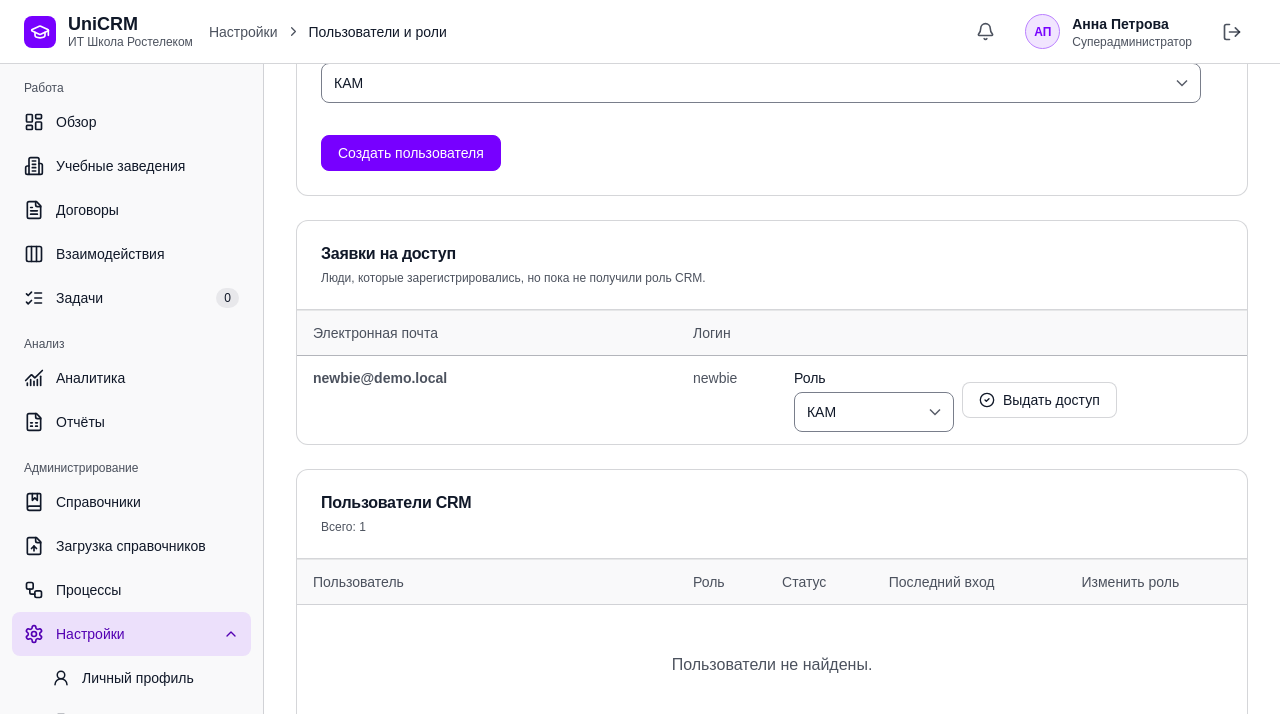
Test: settings users page › shows pending registrations and grants manager access
This screenshot has width=1280, height=714.
(page scrolled)
Expected: the text "newbie@demo.local" is shown, [313, 370, 447, 386]
Step 1. Click the button "Выдать доступ" → (1039, 400), box [962, 382, 1117, 418]
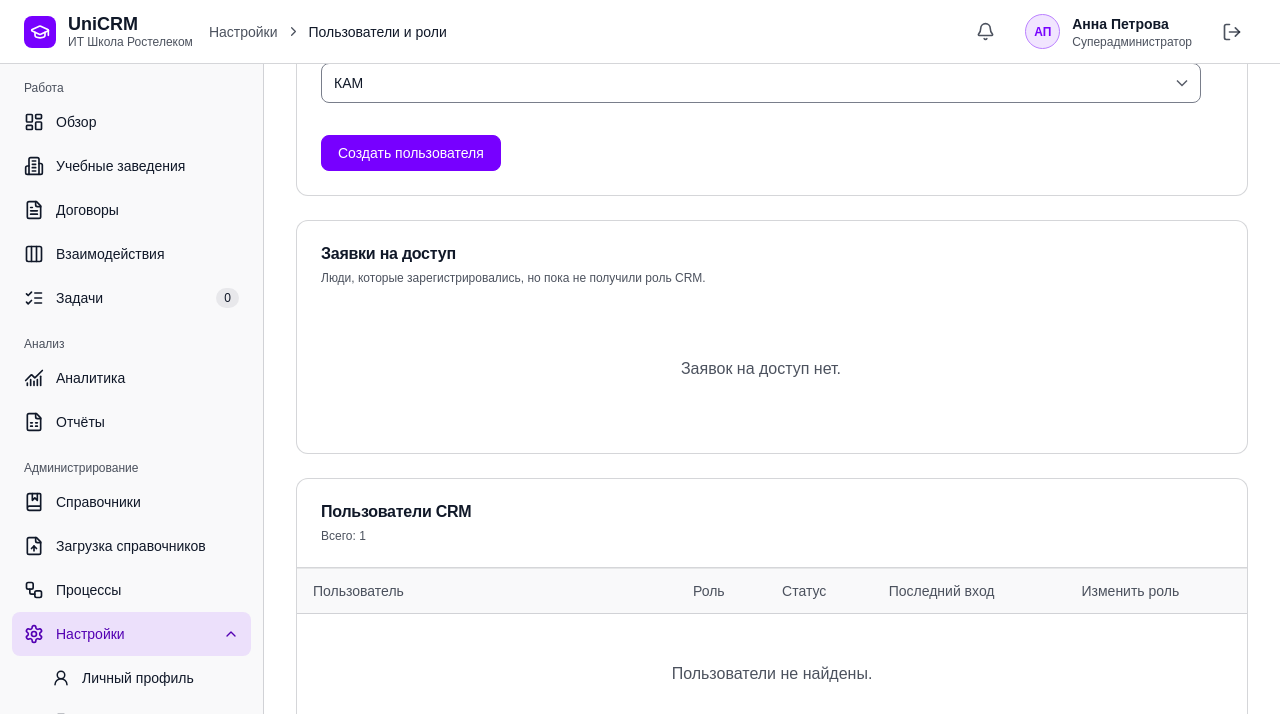
Expected: the text "newbie@demo.local" is gone
Expected: the text "Заявок на доступ нет." is shown, [681, 360, 841, 377]
